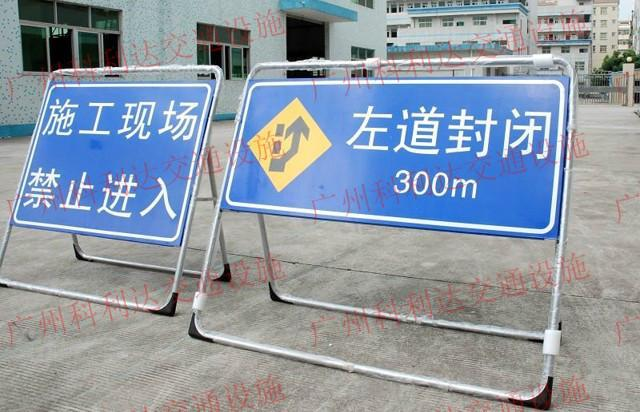sign: (241, 83, 563, 237), (34, 96, 192, 230)
